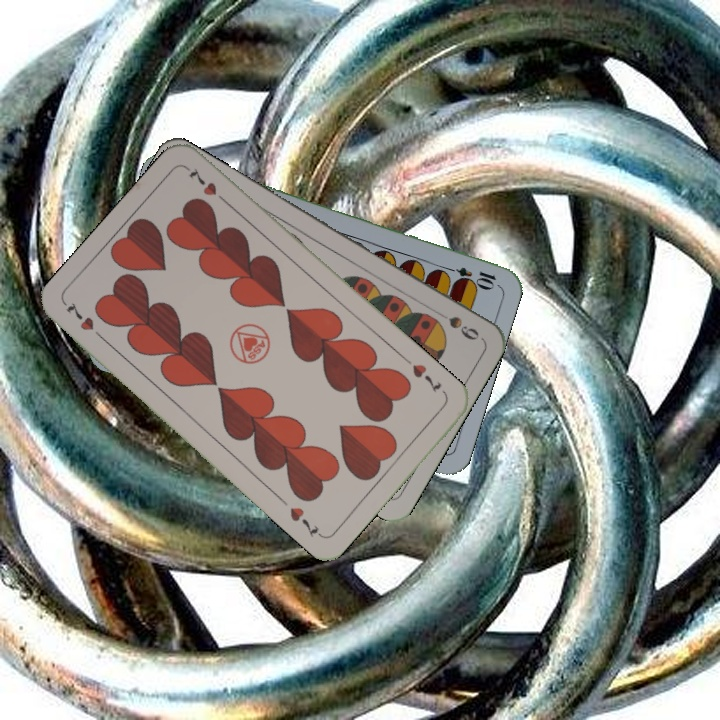E10: (440, 262, 499, 289)
H7: (61, 298, 109, 344), (408, 359, 444, 396)
S9: (429, 305, 482, 343)
